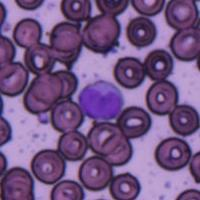M: (78, 81, 125, 121)
